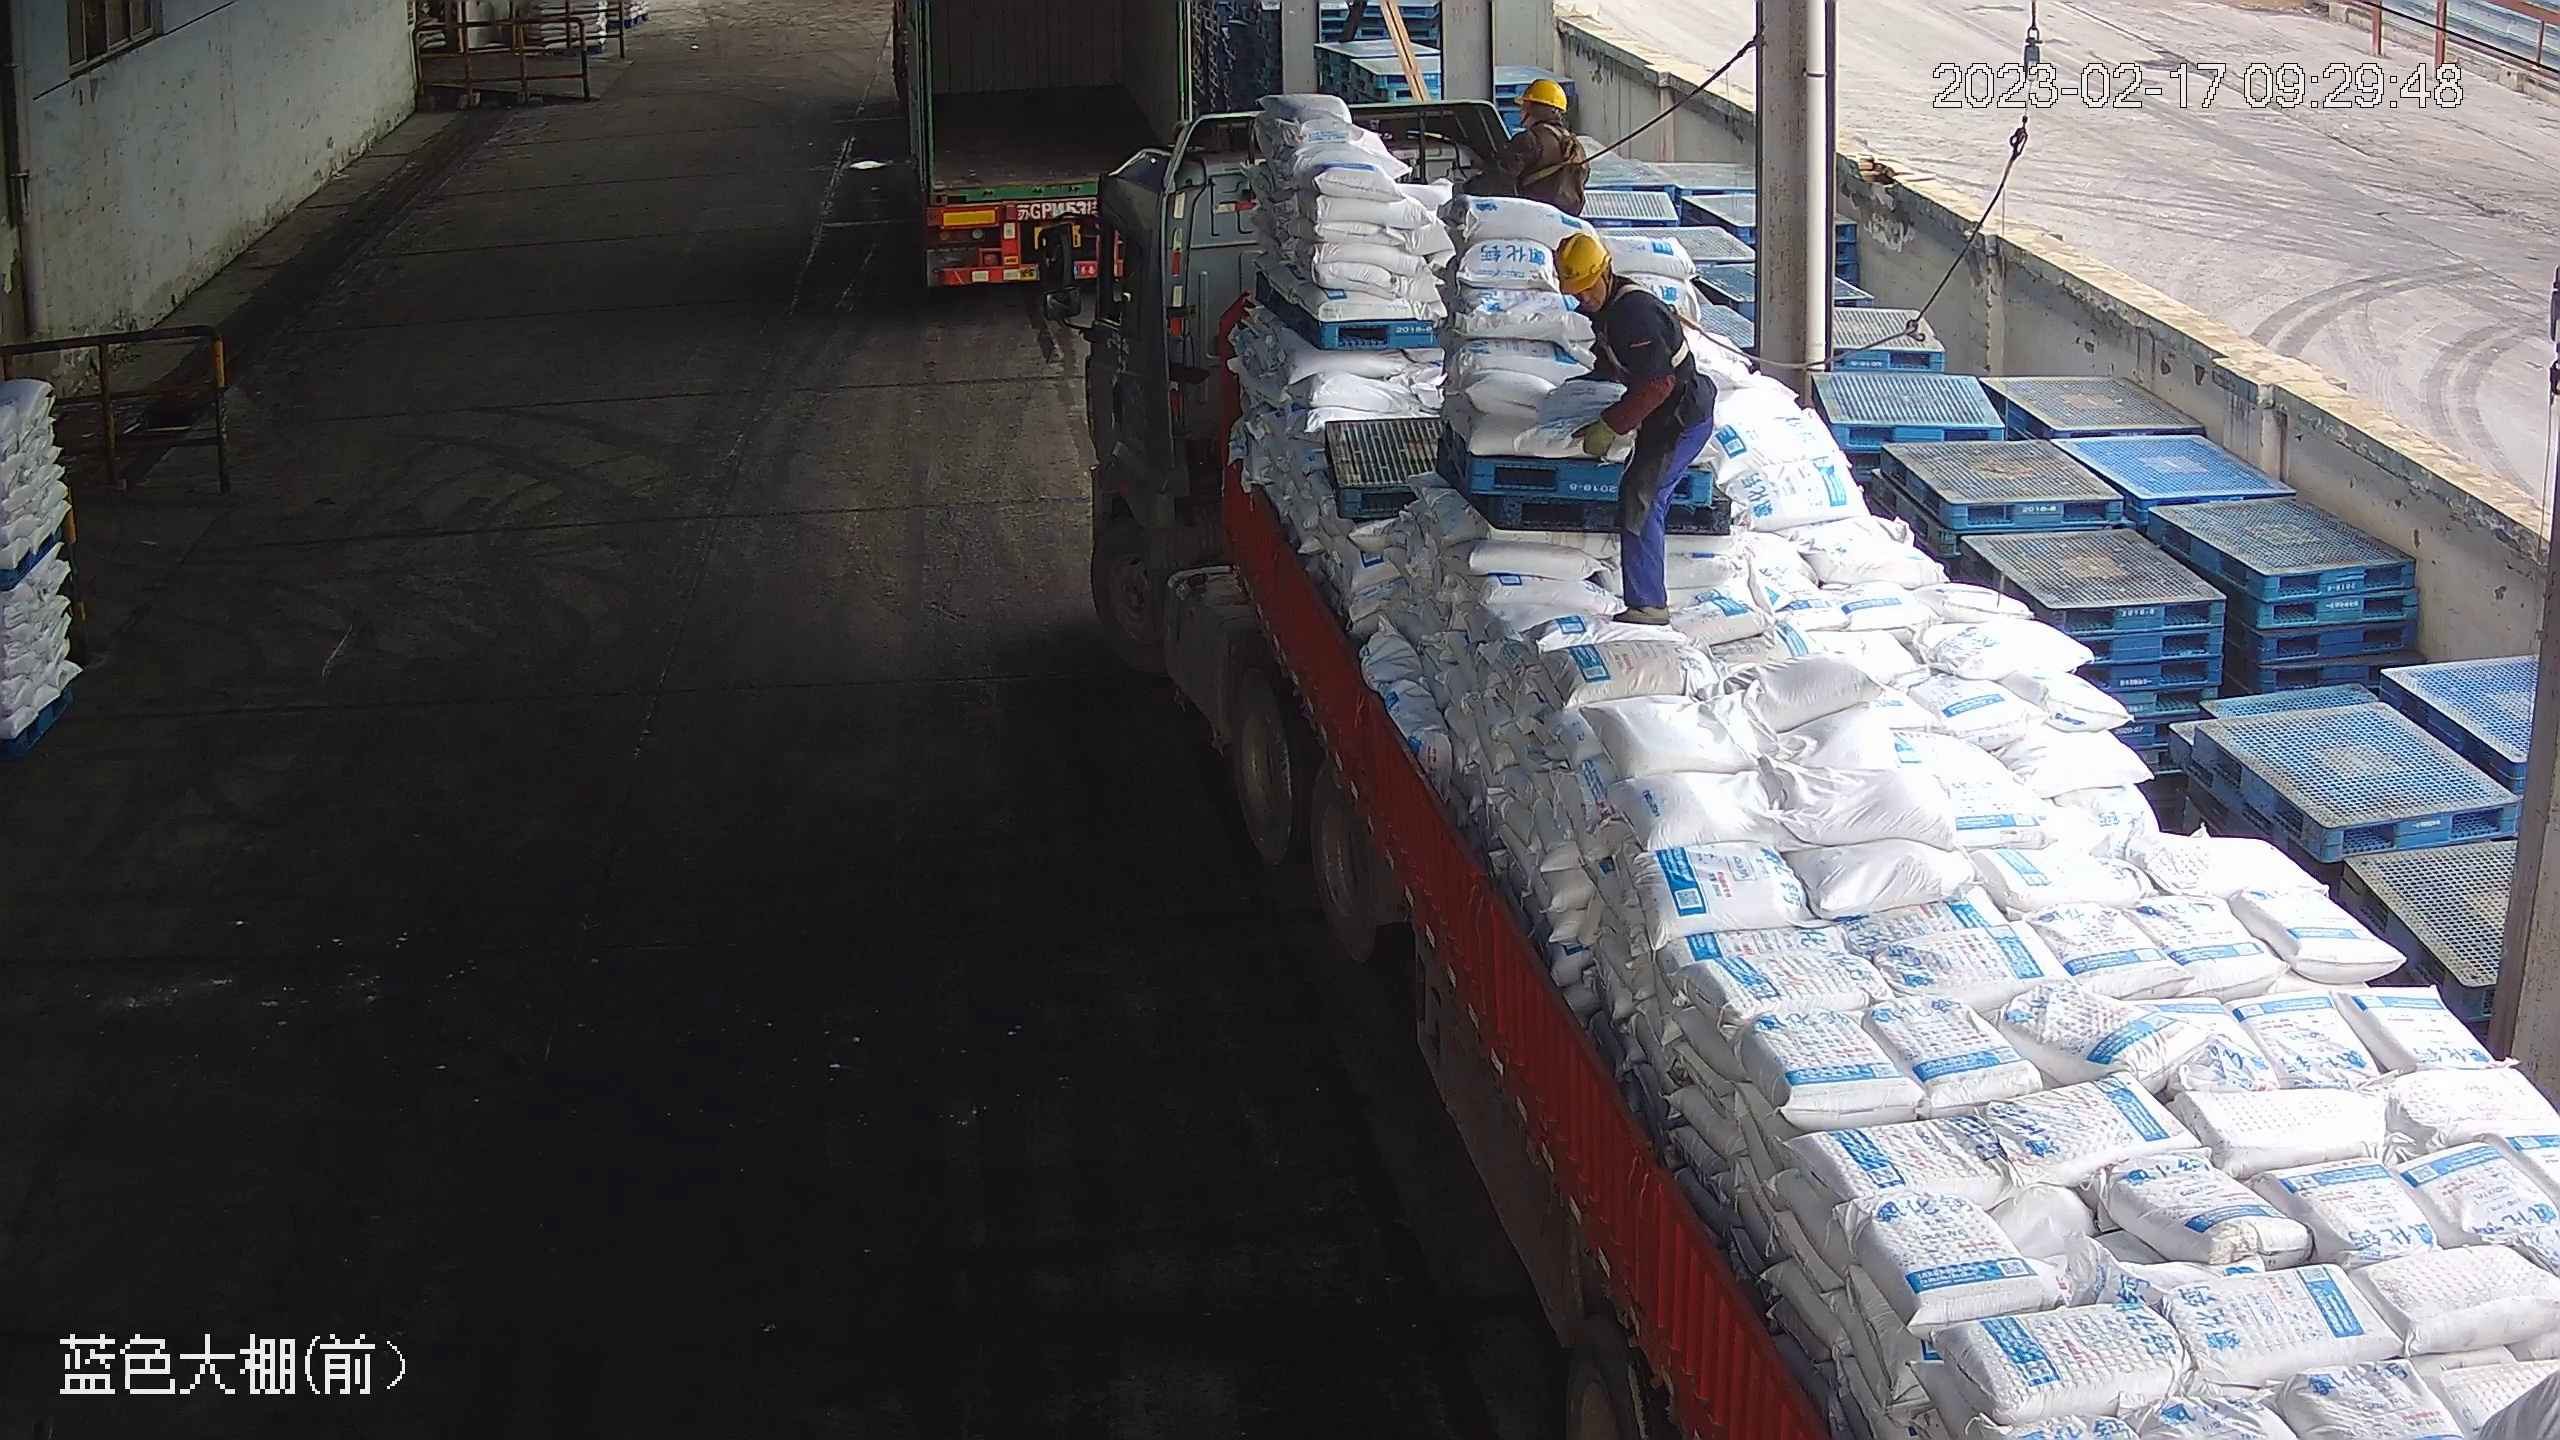belt: (1593, 279, 1712, 369), (1520, 125, 1598, 193)
head: (1556, 239, 1667, 362), (1481, 78, 1588, 186)
helmet: (1554, 237, 1613, 293), (1518, 79, 1574, 111)
people: (1549, 235, 1720, 630)
truck: (1034, 103, 2560, 1440), (888, 1, 1201, 313)
